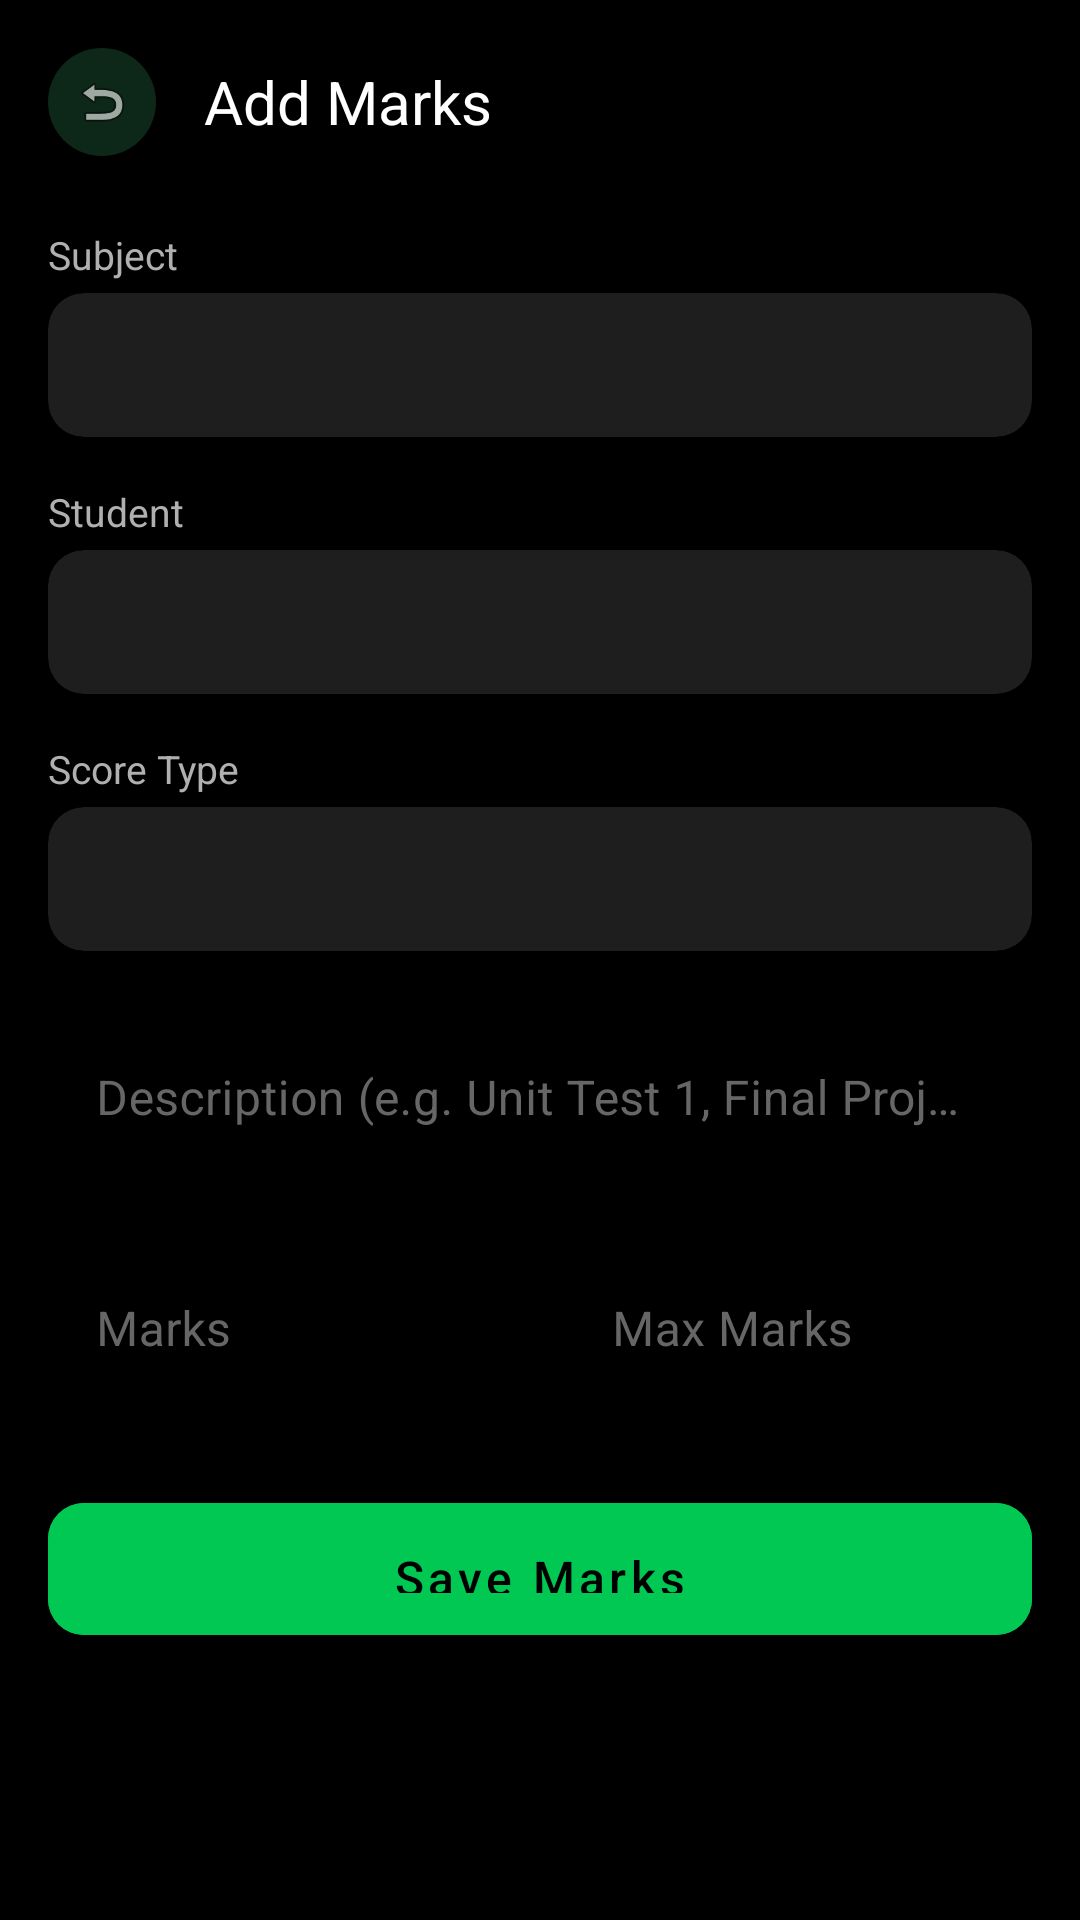

Named icons in this screenshot (1080px×1920px) and their centers, [x,y]:
revert: [102,102]
